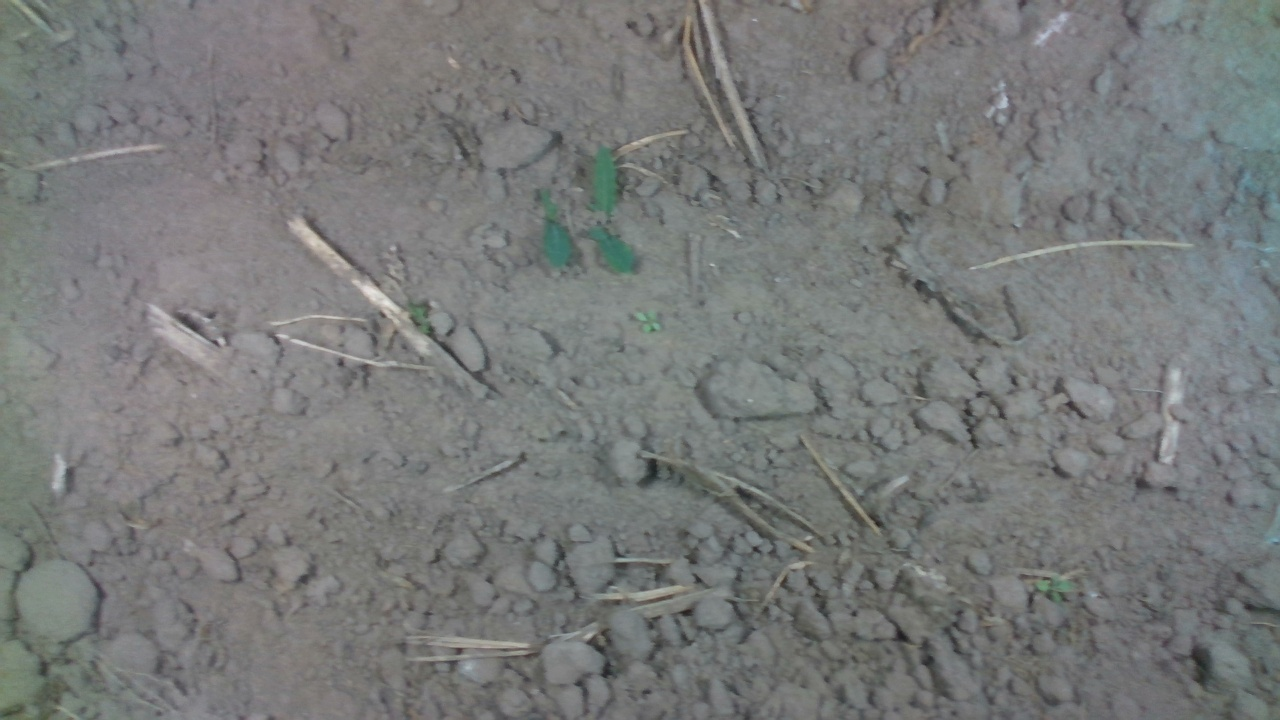weed: (584, 145, 636, 276), (537, 184, 574, 270), (630, 304, 662, 335)
